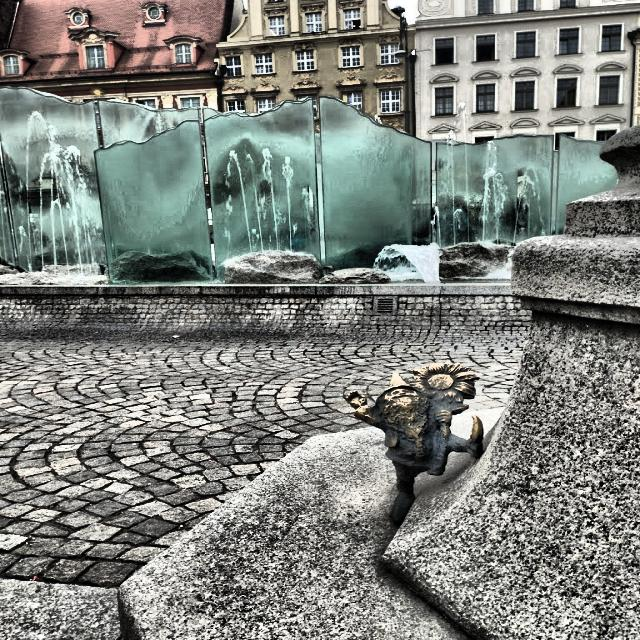Zyczliwek: (347, 364, 483, 525)
